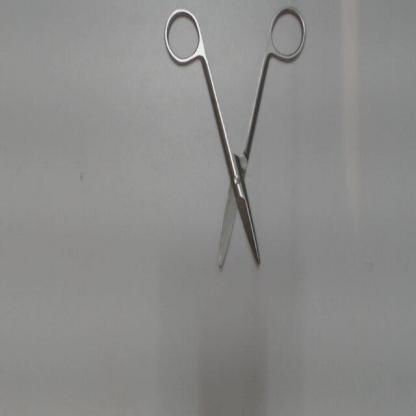Curved Mayo Scissors: (159, 2, 312, 276)
